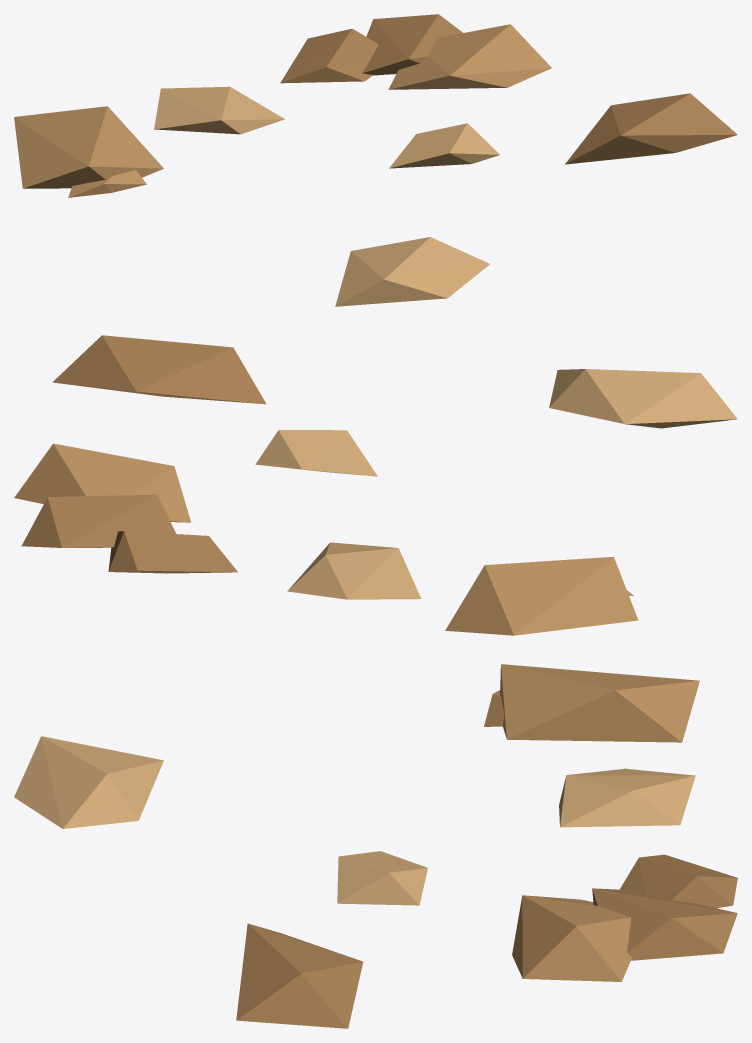
File: desert_pebbles.glb
The picture shows the model from 3 angles, top to bottom: view 1: azimuth 30°, elevation 25°; view 2: azimuth 150°, elevation 25°; view 3: azimuth 270°, elevation 25°; orthographic projection. The views are drawn at different scales.
Parts seen in each view (by area): view 1: desert_pebbles; view 2: desert_pebbles; view 3: desert_pebbles.
Boxes of the visible parts, left/top/right/bottom form: desert_pebbles: left=14, top=14, right=737, bottom=306; desert_pebbles: left=14, top=335, right=737, bottom=635; desert_pebbles: left=14, top=664, right=737, bottom=1028.
Bounding box in the file's own units: 1.8 × 0.1124 × 1.54.
